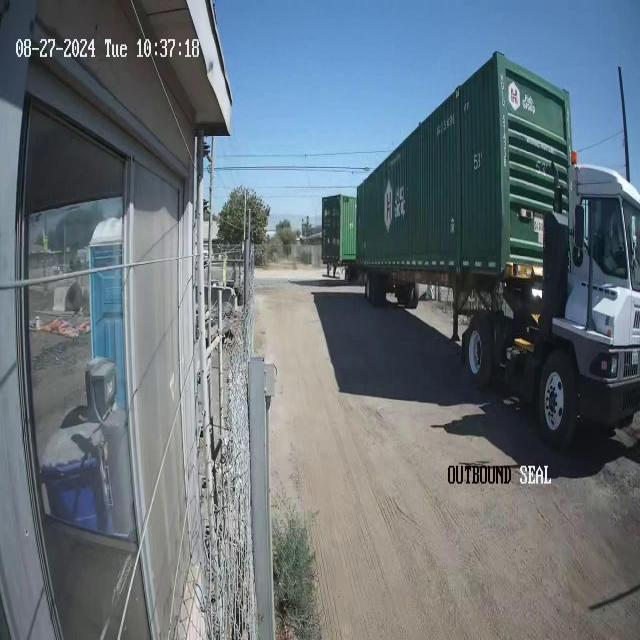TRUCK_IN: (354, 49, 640, 467)
